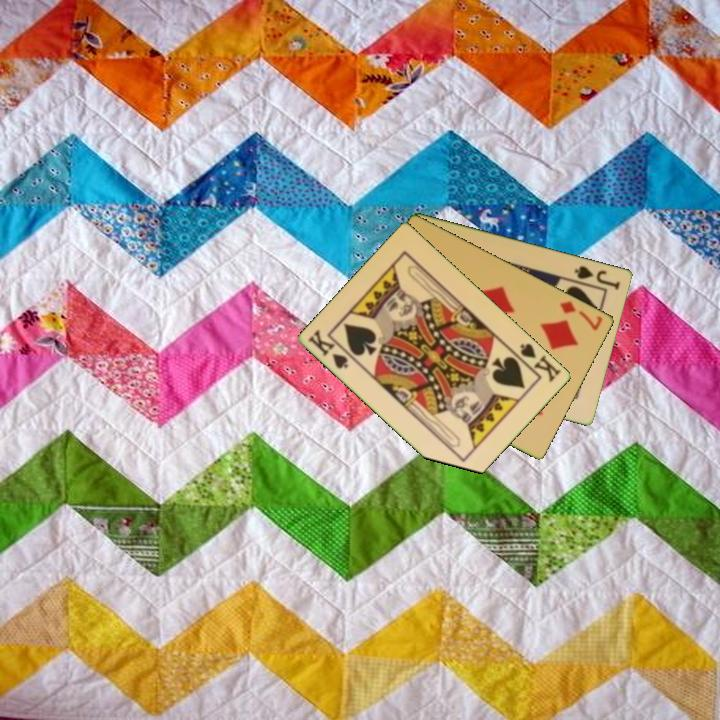7d: (556, 297, 606, 333)
Js: (571, 262, 623, 292)
Ks: (305, 326, 352, 372), (517, 340, 564, 385)
